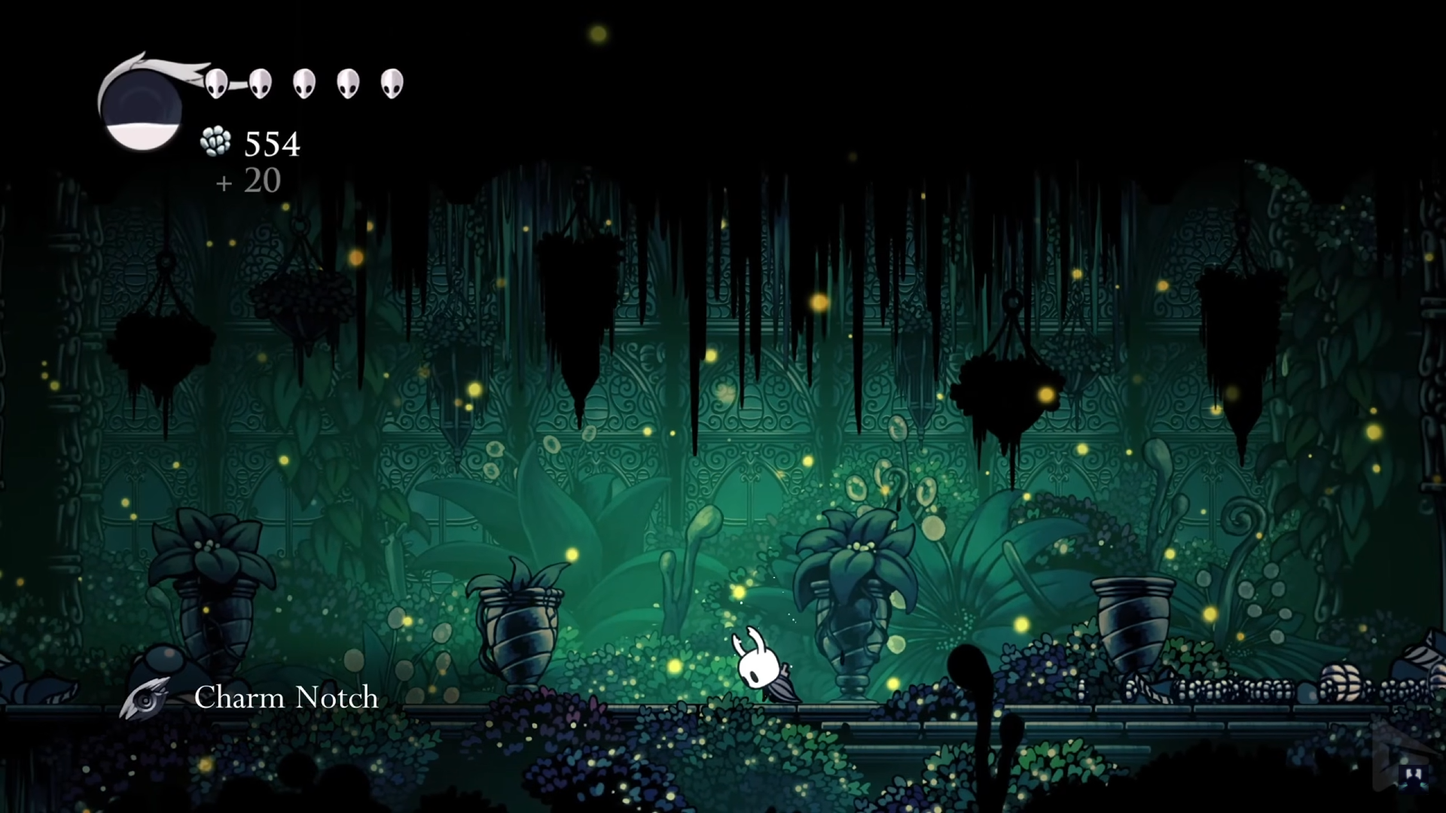HK: (729, 622, 792, 711)
